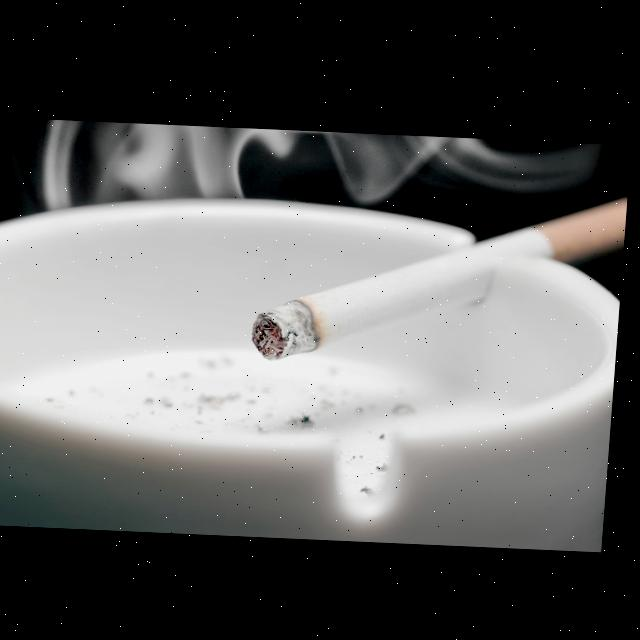cigarette: (256, 180, 630, 368)
